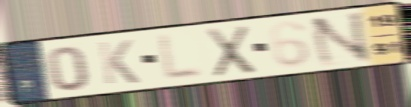0: (44, 42, 93, 93)
6: (267, 19, 314, 70)
K: (95, 38, 142, 87)
L: (156, 31, 205, 83)
N: (307, 9, 375, 70)
X: (205, 22, 258, 80)
